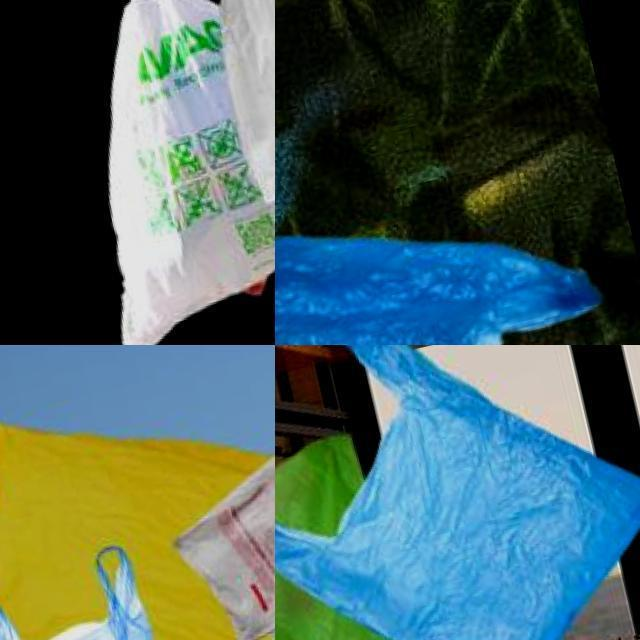waste: (275, 345, 640, 640), (0, 345, 275, 640), (43, 0, 275, 345), (275, 150, 640, 345), (275, 419, 464, 640), (144, 385, 275, 640), (0, 545, 188, 640), (206, 0, 275, 226)
